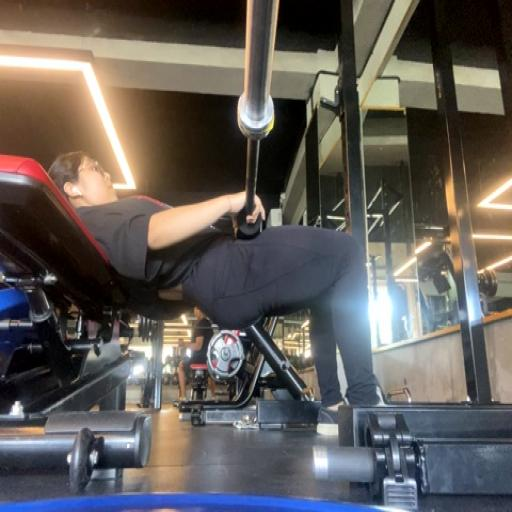exercise: (46, 147, 391, 435)
